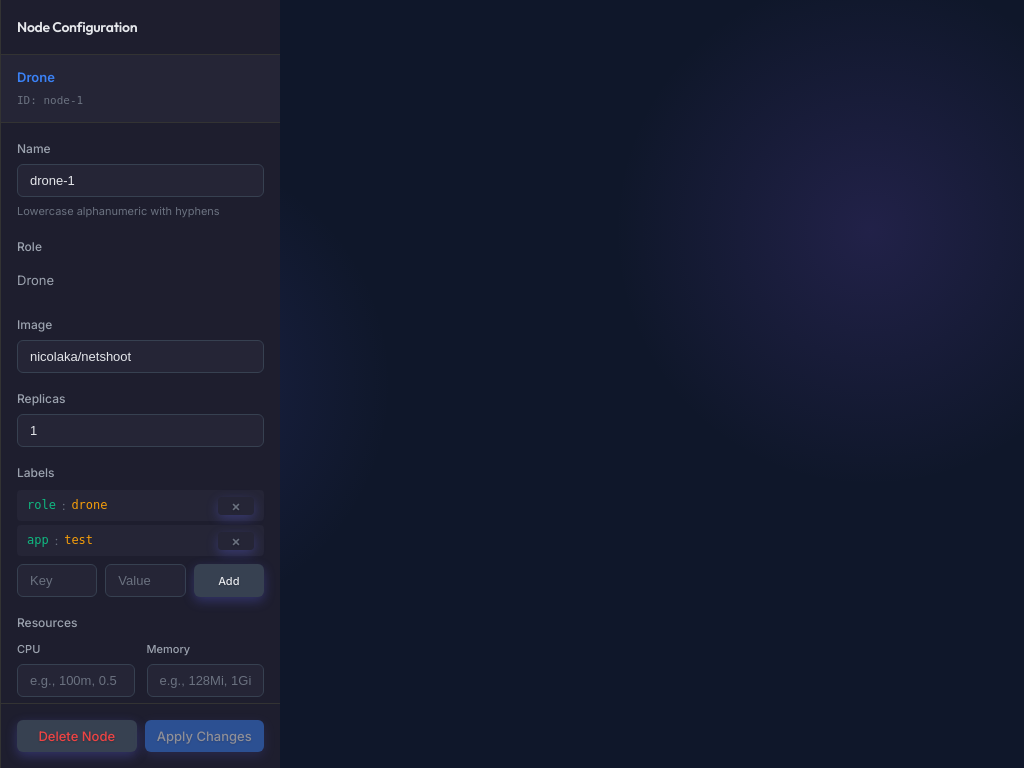
NodeConfigPanel › validates required fields
Clear the field showing "drone-1" below "Name" at (140, 180), box x1=17 y1=164 x2=264 y2=197
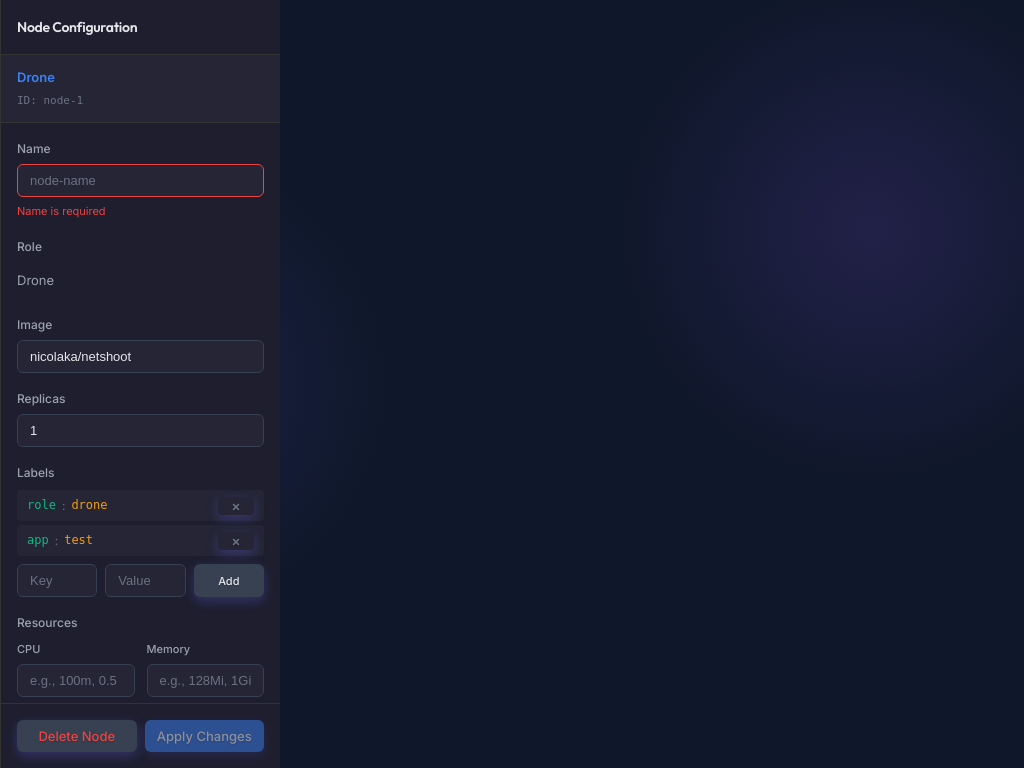
Now the text "Name is required" is shown, box x1=17 y1=204 x2=106 y2=218
